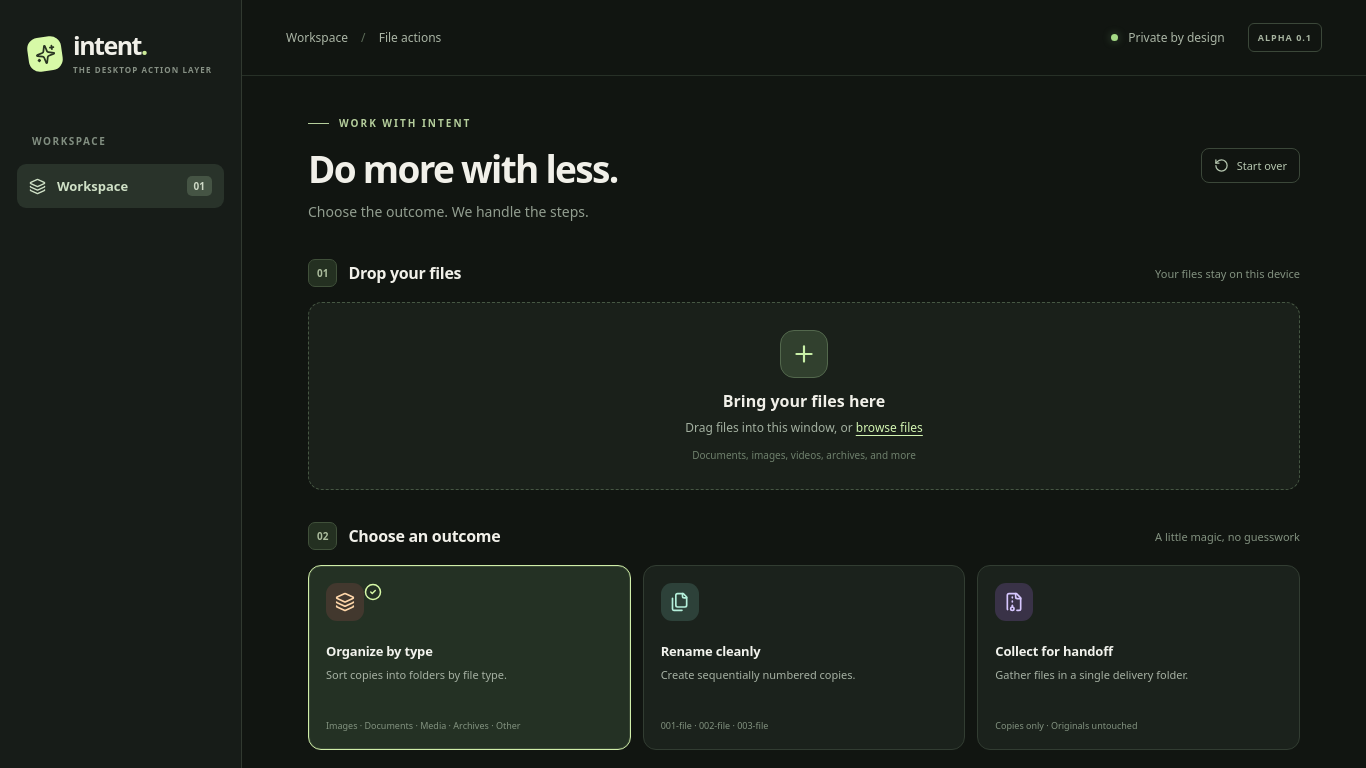
Test case: approved plan UI contract › shows Windows extended paths without the internal device prefix
Click the button with aria-label "Choose files or drop them here": (804, 396) [308, 302, 1300, 490]
(page scrolled)
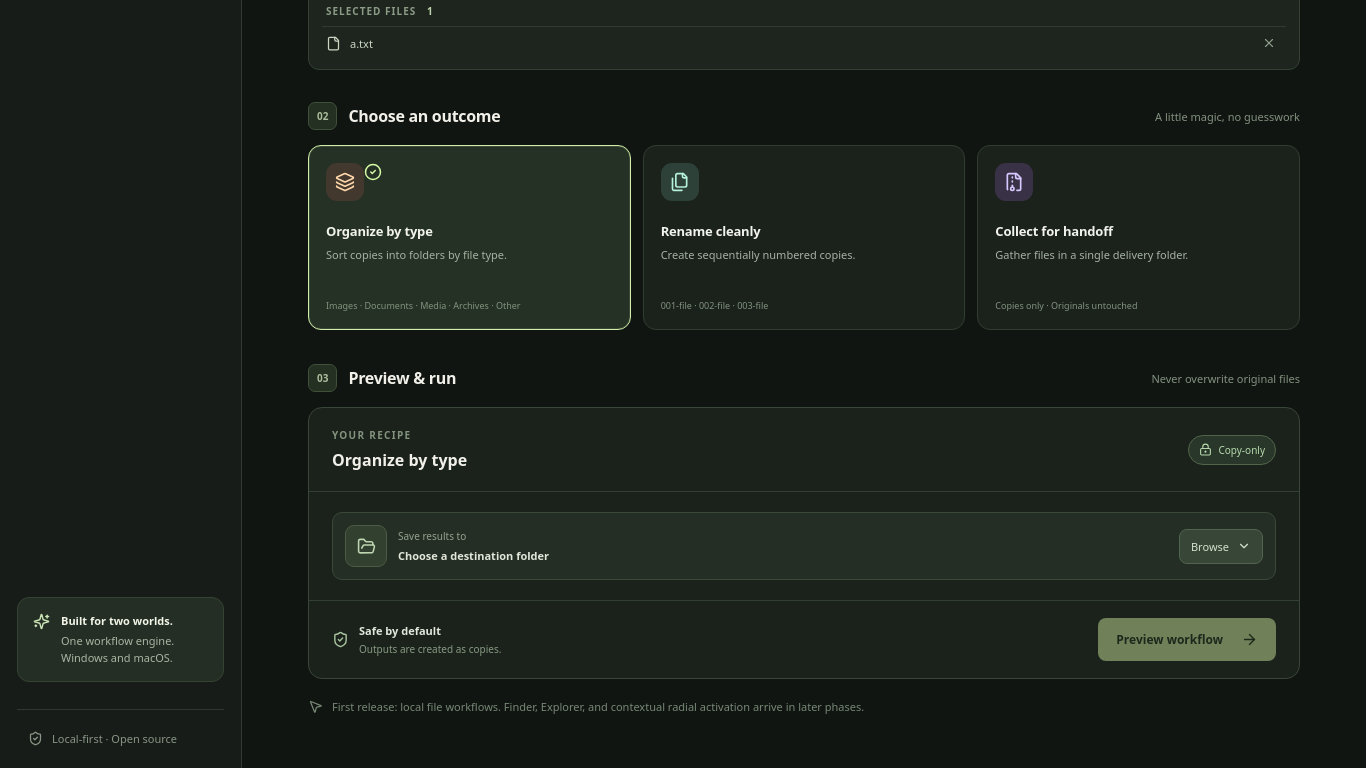
Click the button "Browse": (1221, 546) [1179, 528, 1263, 564]
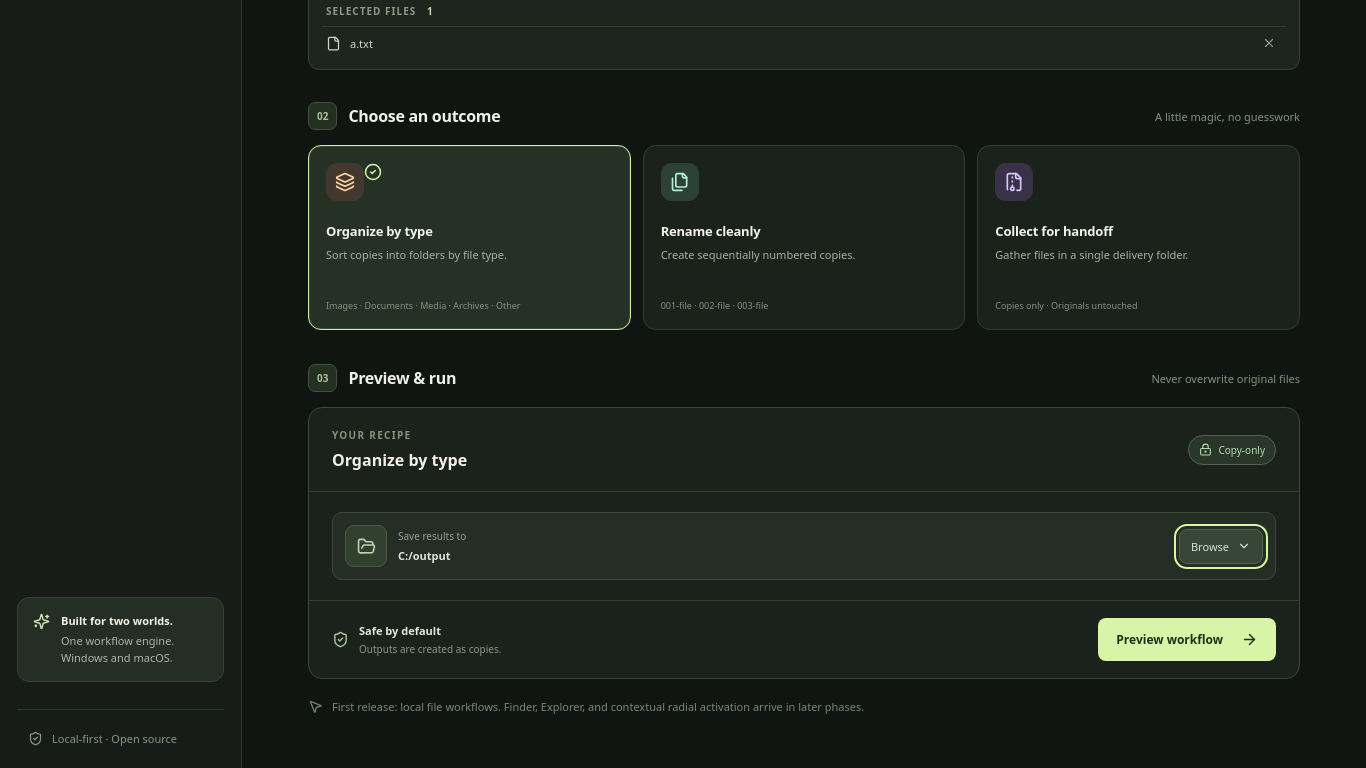
Click the button "Preview workflow": (1187, 640) [1098, 618, 1276, 661]
(page scrolled)
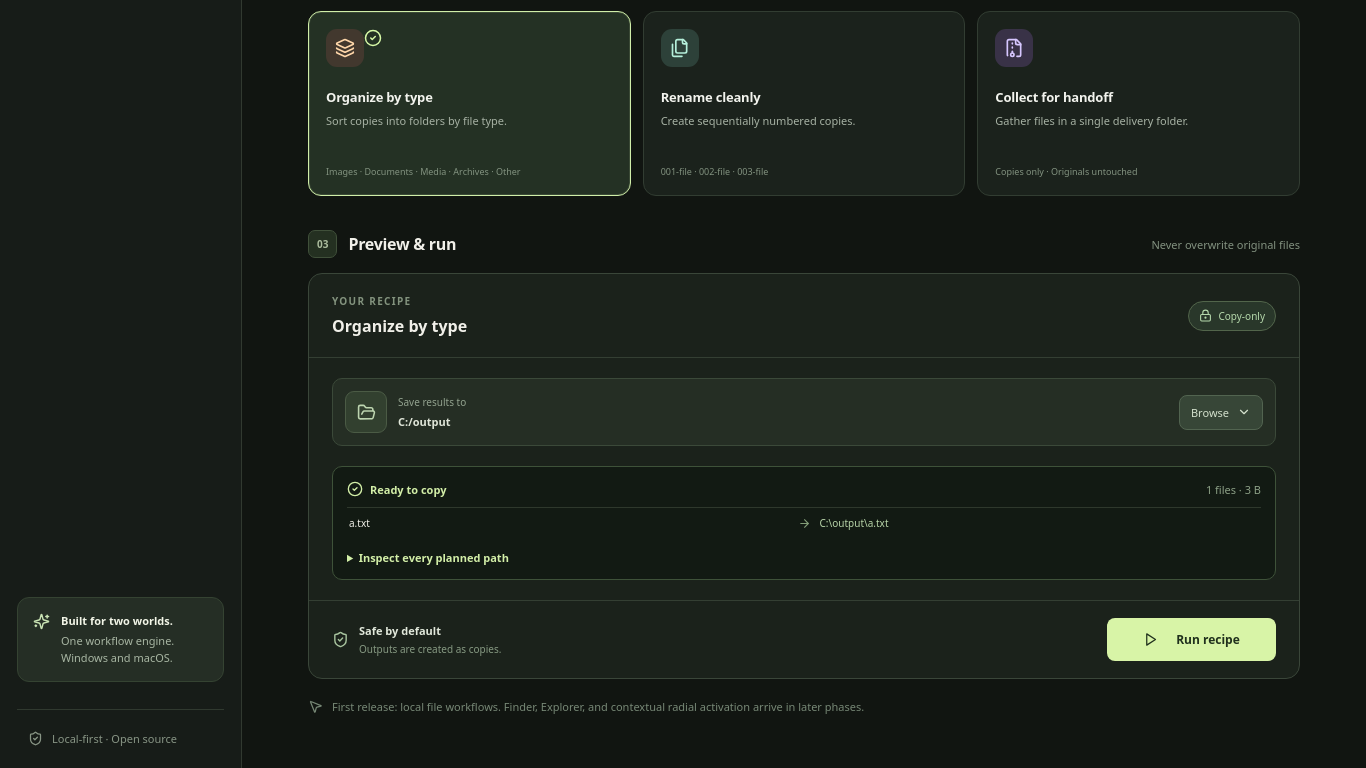
Check: the text "C:\\output\\a.txt" is shown, box [820, 516, 888, 530]
